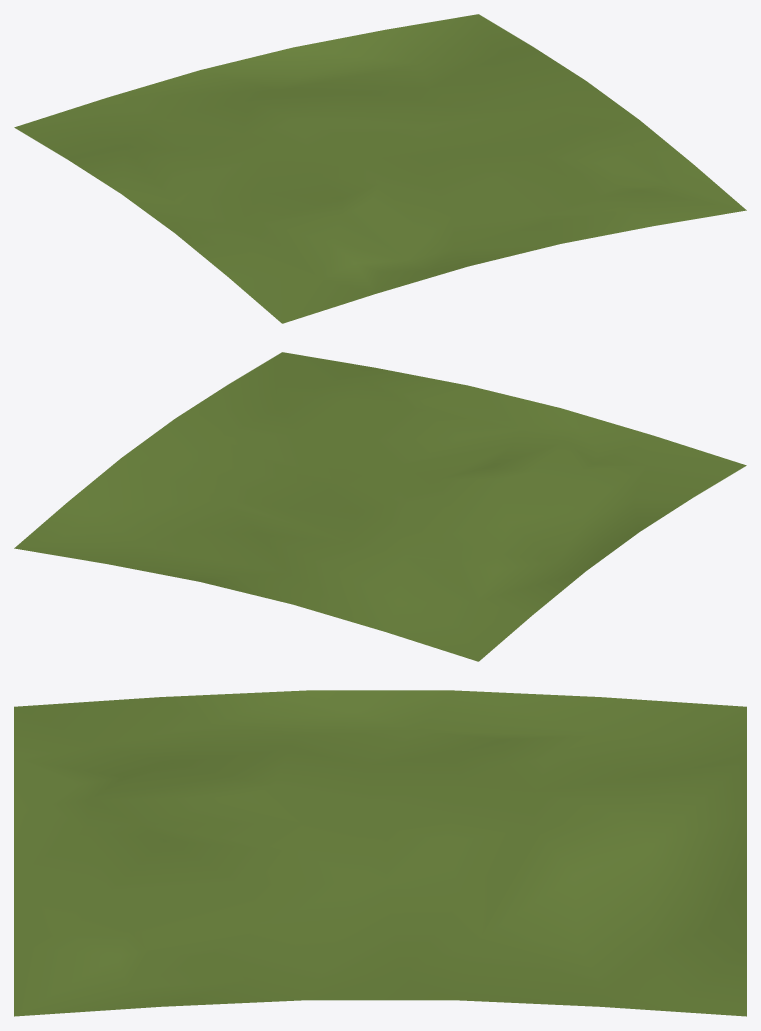
File: rpgpp_ag_terrain_grass_01a_10x10m.fbx
3 renders of one model, top to bottom at view 1: azimuth 30°, elevation 25°; view 2: azimuth 150°, elevation 25°; view 3: azimuth 270°, elevation 25°, orthographic. The views are drawn at different scales.
Visible parts, largest first — view 1: rpgpp_ag_terrain_grass_01a_10x10m; view 2: rpgpp_ag_terrain_grass_01a_10x10m; view 3: rpgpp_ag_terrain_grass_01a_10x10m.
Boxes of the visible parts, <box> form: rpgpp_ag_terrain_grass_01a_10x10m: <box>14,14,746,323</box>; rpgpp_ag_terrain_grass_01a_10x10m: <box>14,352,746,661</box>; rpgpp_ag_terrain_grass_01a_10x10m: <box>14,690,746,1016</box>.
Bounding box in the file's own units: 10 × 0.3969 × 10.
